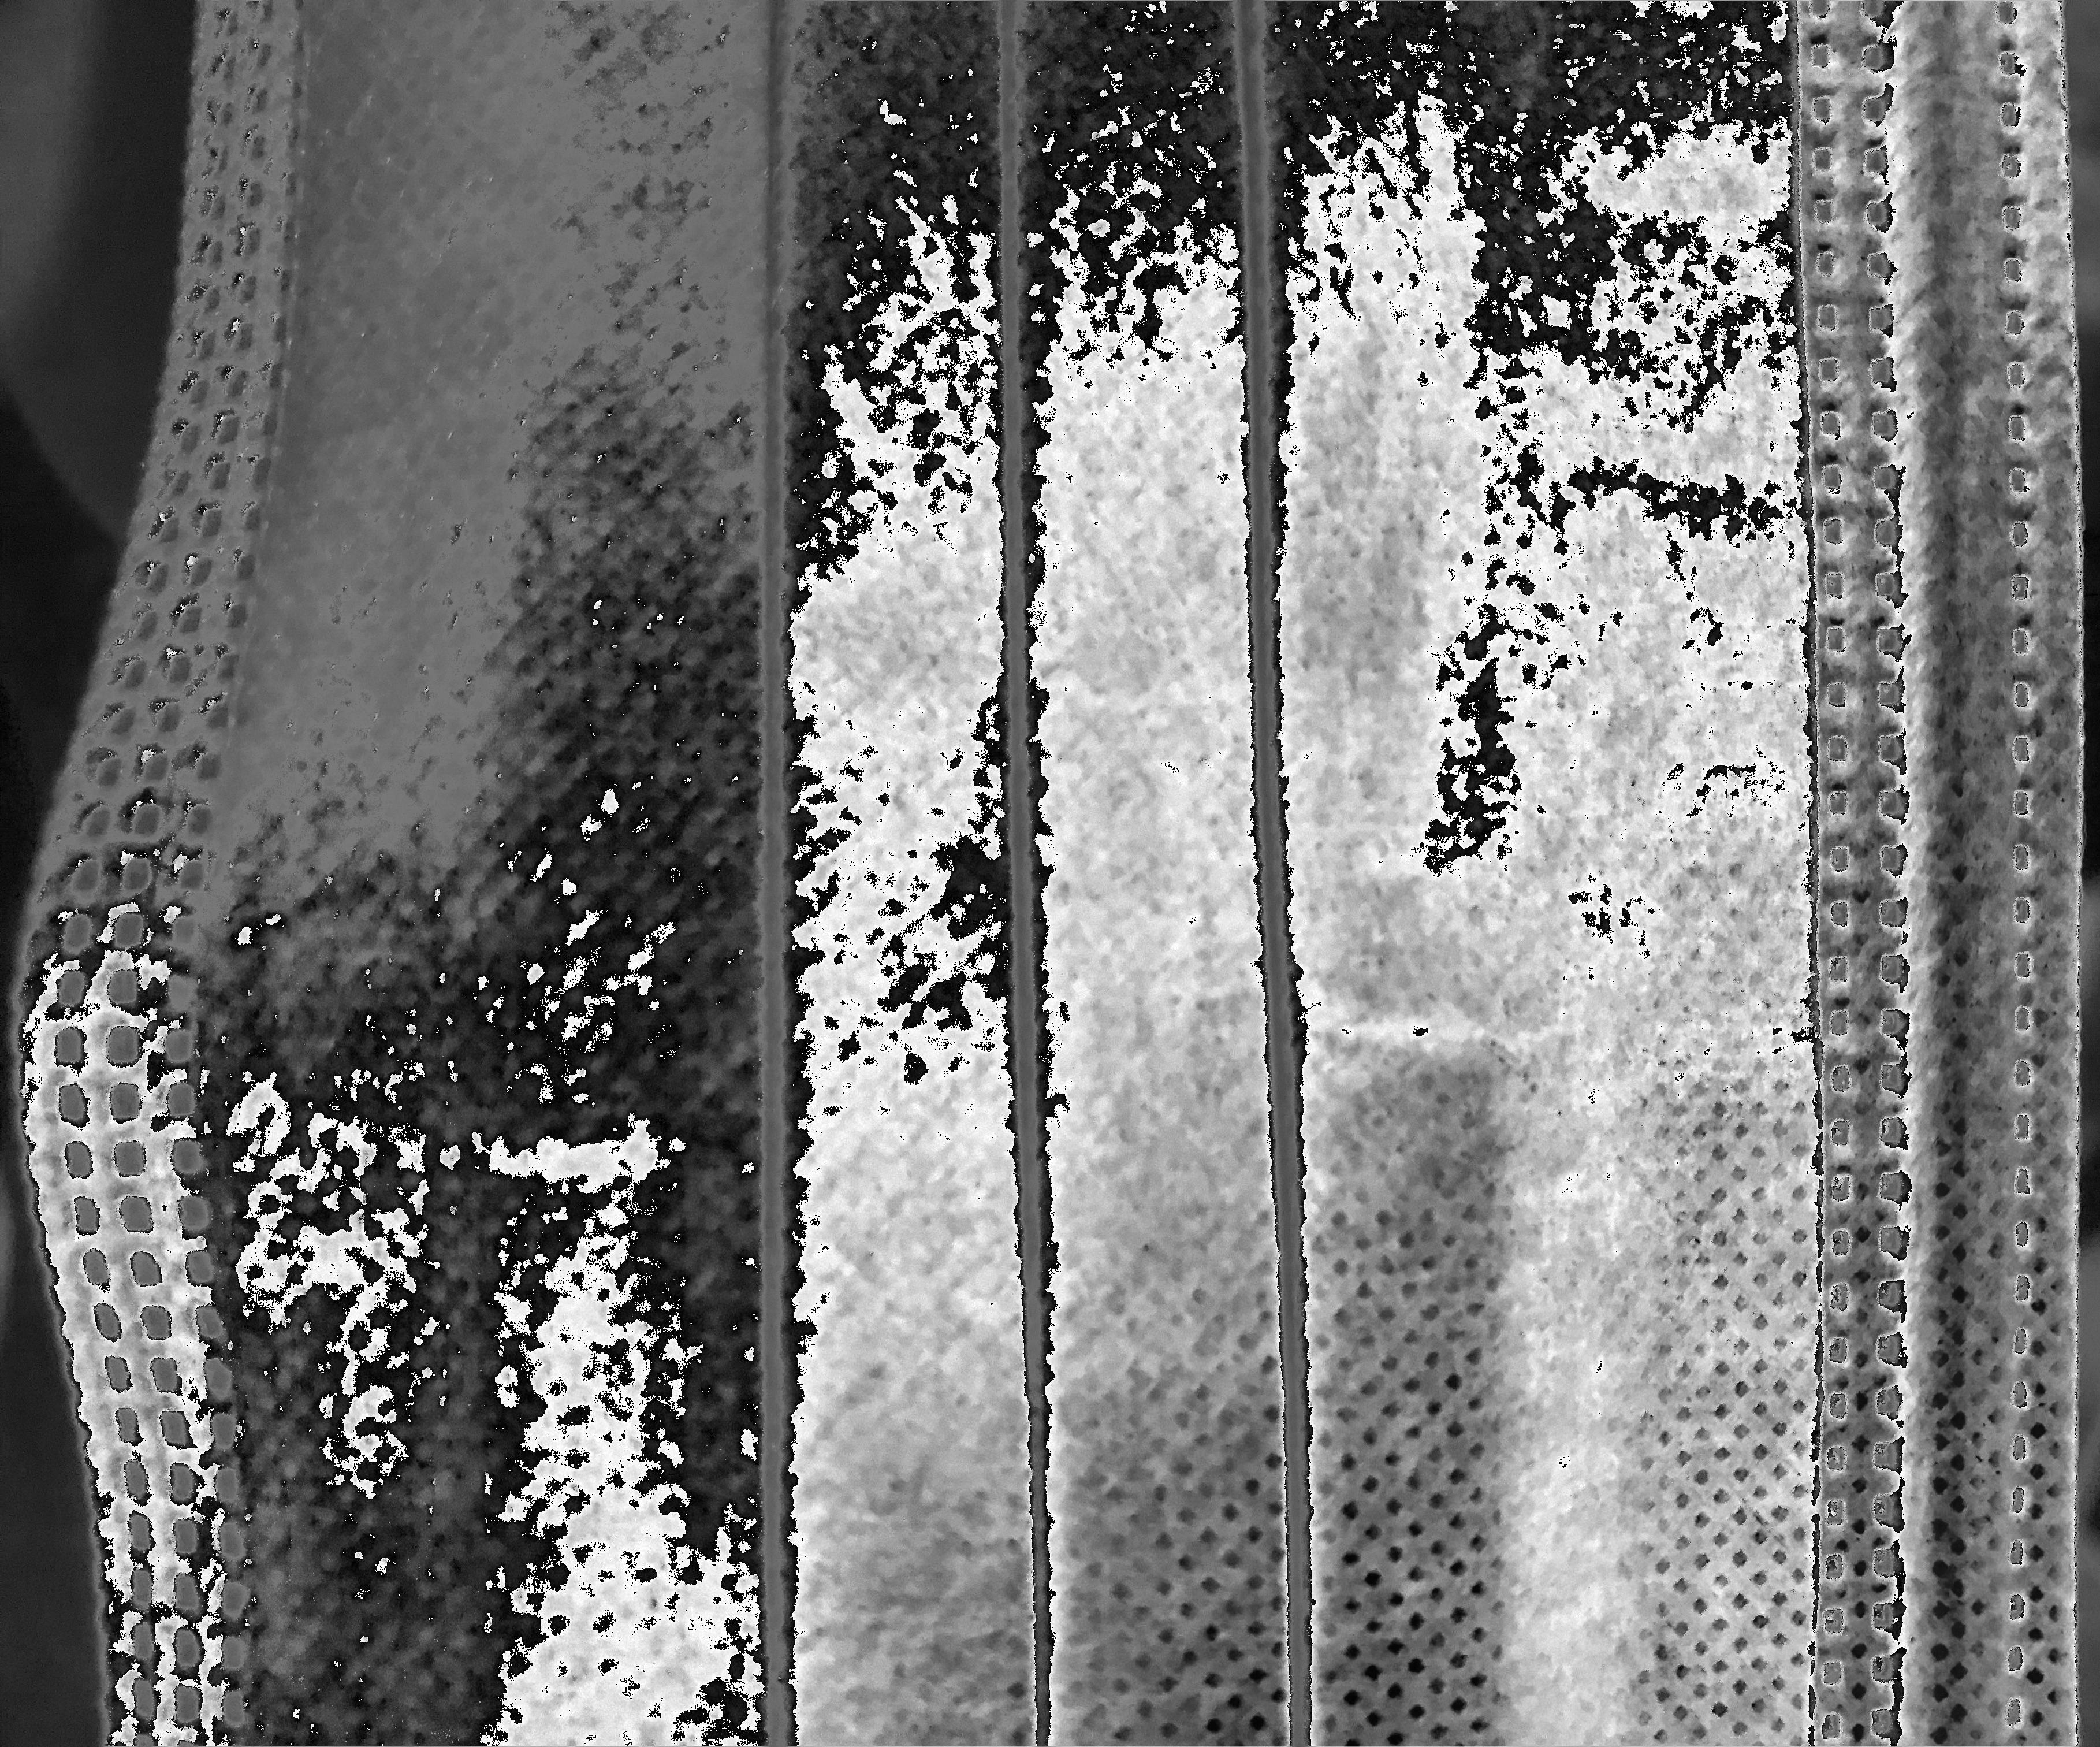High GSM: (787, 7, 1812, 1740)
Undefined Area: (78, 7, 743, 836)
